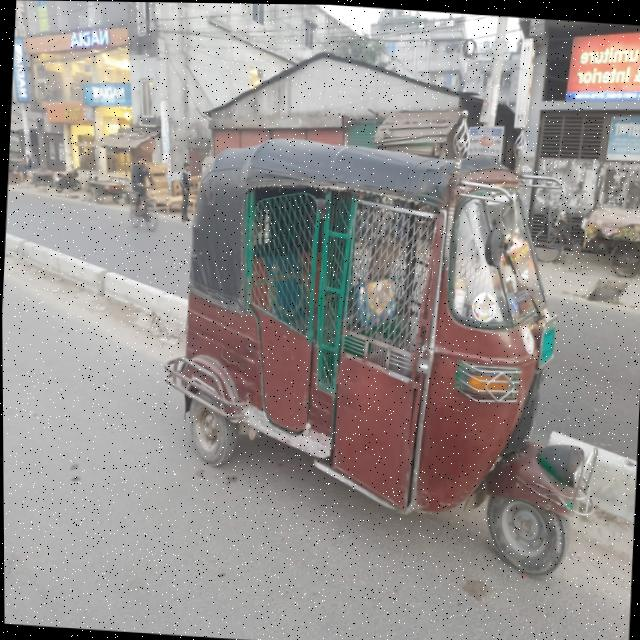cng: (128, 128, 571, 571)
